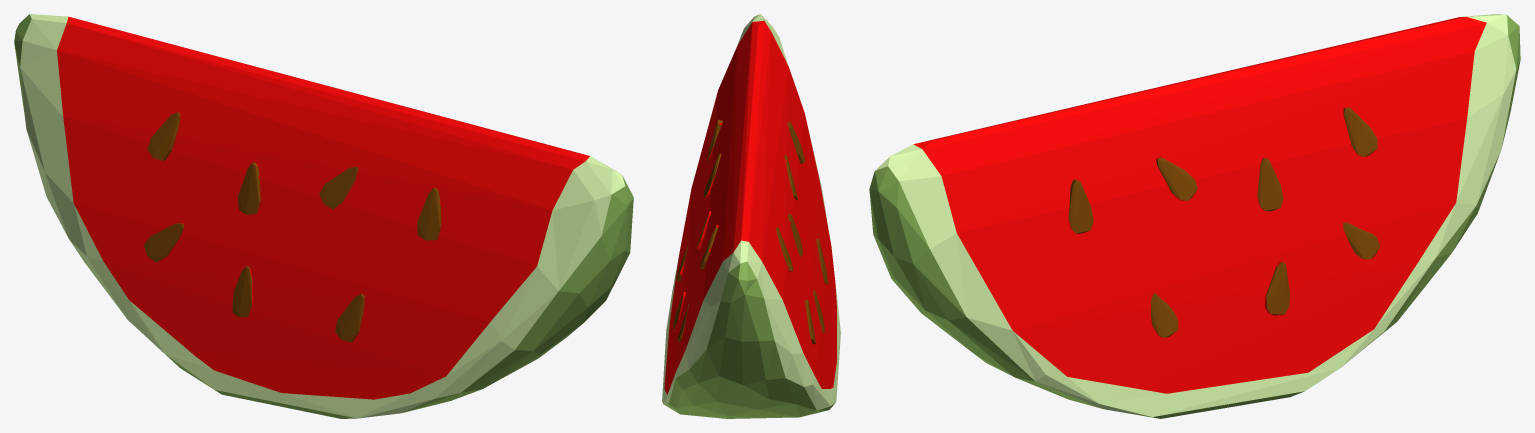
File: watermelon.glb
3 renders of one model, left to right at view 1: azimuth 30°, elevation 25°; view 2: azimuth 150°, elevation 25°; view 3: azimuth 270°, elevation 25°, orthographic. The views are drawn at different scales.
Visible parts, largest first — view 1: Cut_WaterMElon_InAvocado_0; view 2: Cut_WaterMElon_InAvocado_0; view 3: Cut_WaterMElon_InAvocado_0.
Boxes of the visible parts, box(x1,y1,x2,y2) form: Cut_WaterMElon_InAvocado_0: box(14, 14, 633, 418); Cut_WaterMElon_InAvocado_0: box(662, 14, 840, 418); Cut_WaterMElon_InAvocado_0: box(869, 14, 1520, 418).
Size of the model in its own units: 0.5853 by 0.5012 by 0.984.
